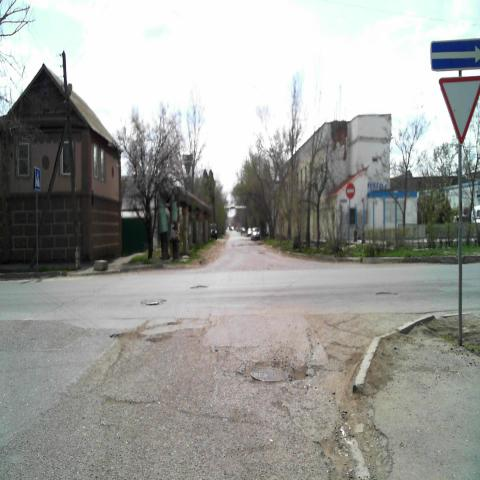5_7_1: (430, 39, 480, 70)
